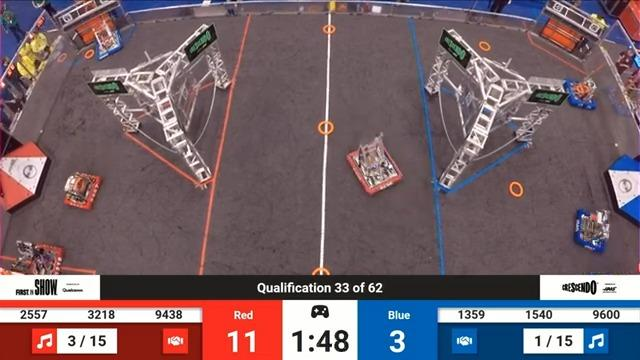robot: (340, 137, 416, 196), (569, 201, 624, 254), (57, 168, 102, 213), (15, 237, 63, 277), (88, 27, 125, 62), (566, 76, 597, 112)
